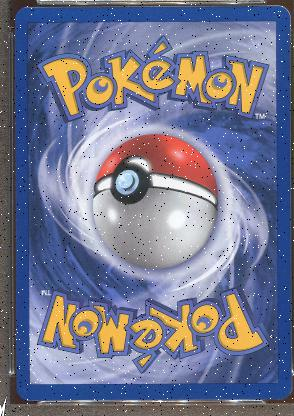Card: (11, 5, 291, 406)
